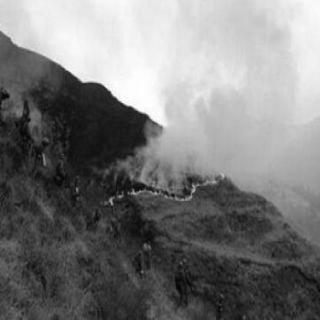Fire: (102, 190, 124, 203)
Smoke: (164, 112, 232, 166)
other: (17, 110, 47, 164), (173, 245, 193, 307), (135, 238, 153, 276), (53, 151, 65, 195), (71, 172, 83, 215), (210, 286, 228, 314), (87, 204, 101, 234)
